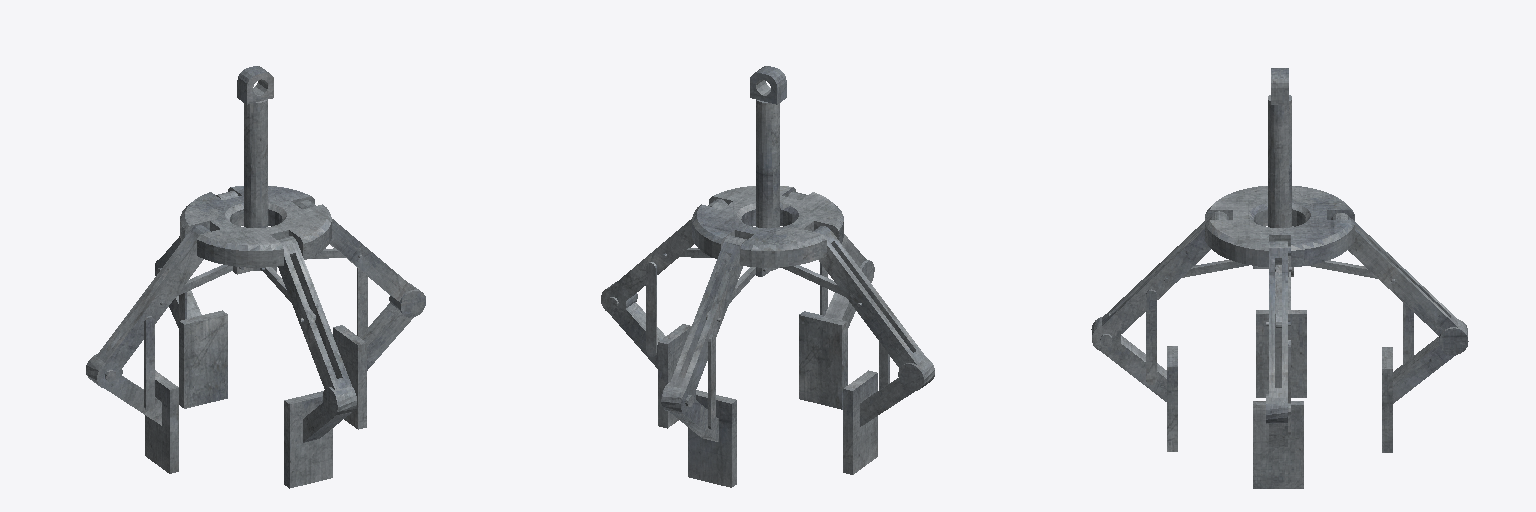
3 views of the same model, side by side, from view 1: azimuth 30°, elevation 25°; view 2: azimuth 150°, elevation 25°; view 3: azimuth 270°, elevation 25° (orthographic).
Visible parts, largest first — view 1: _______low; view 2: _______low; view 3: _______low.
Boxes of the visible parts, <box> form: _______low: <box>86,66,425,488</box>; _______low: <box>601,66,934,487</box>; _______low: <box>1091,68,1468,488</box>.
Size of the model in its own units: 28.69 by 31.17 by 28.69.
Materials: 1 (1 with a texture image).